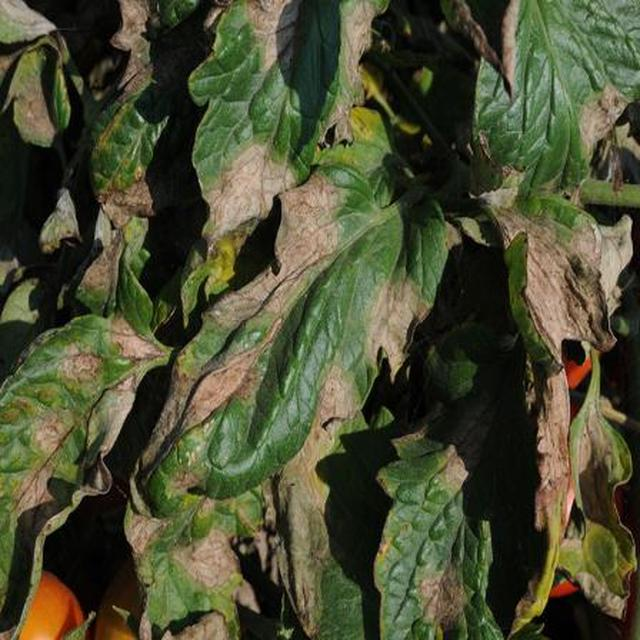Late Blight Leaf: (123, 141, 640, 640)
